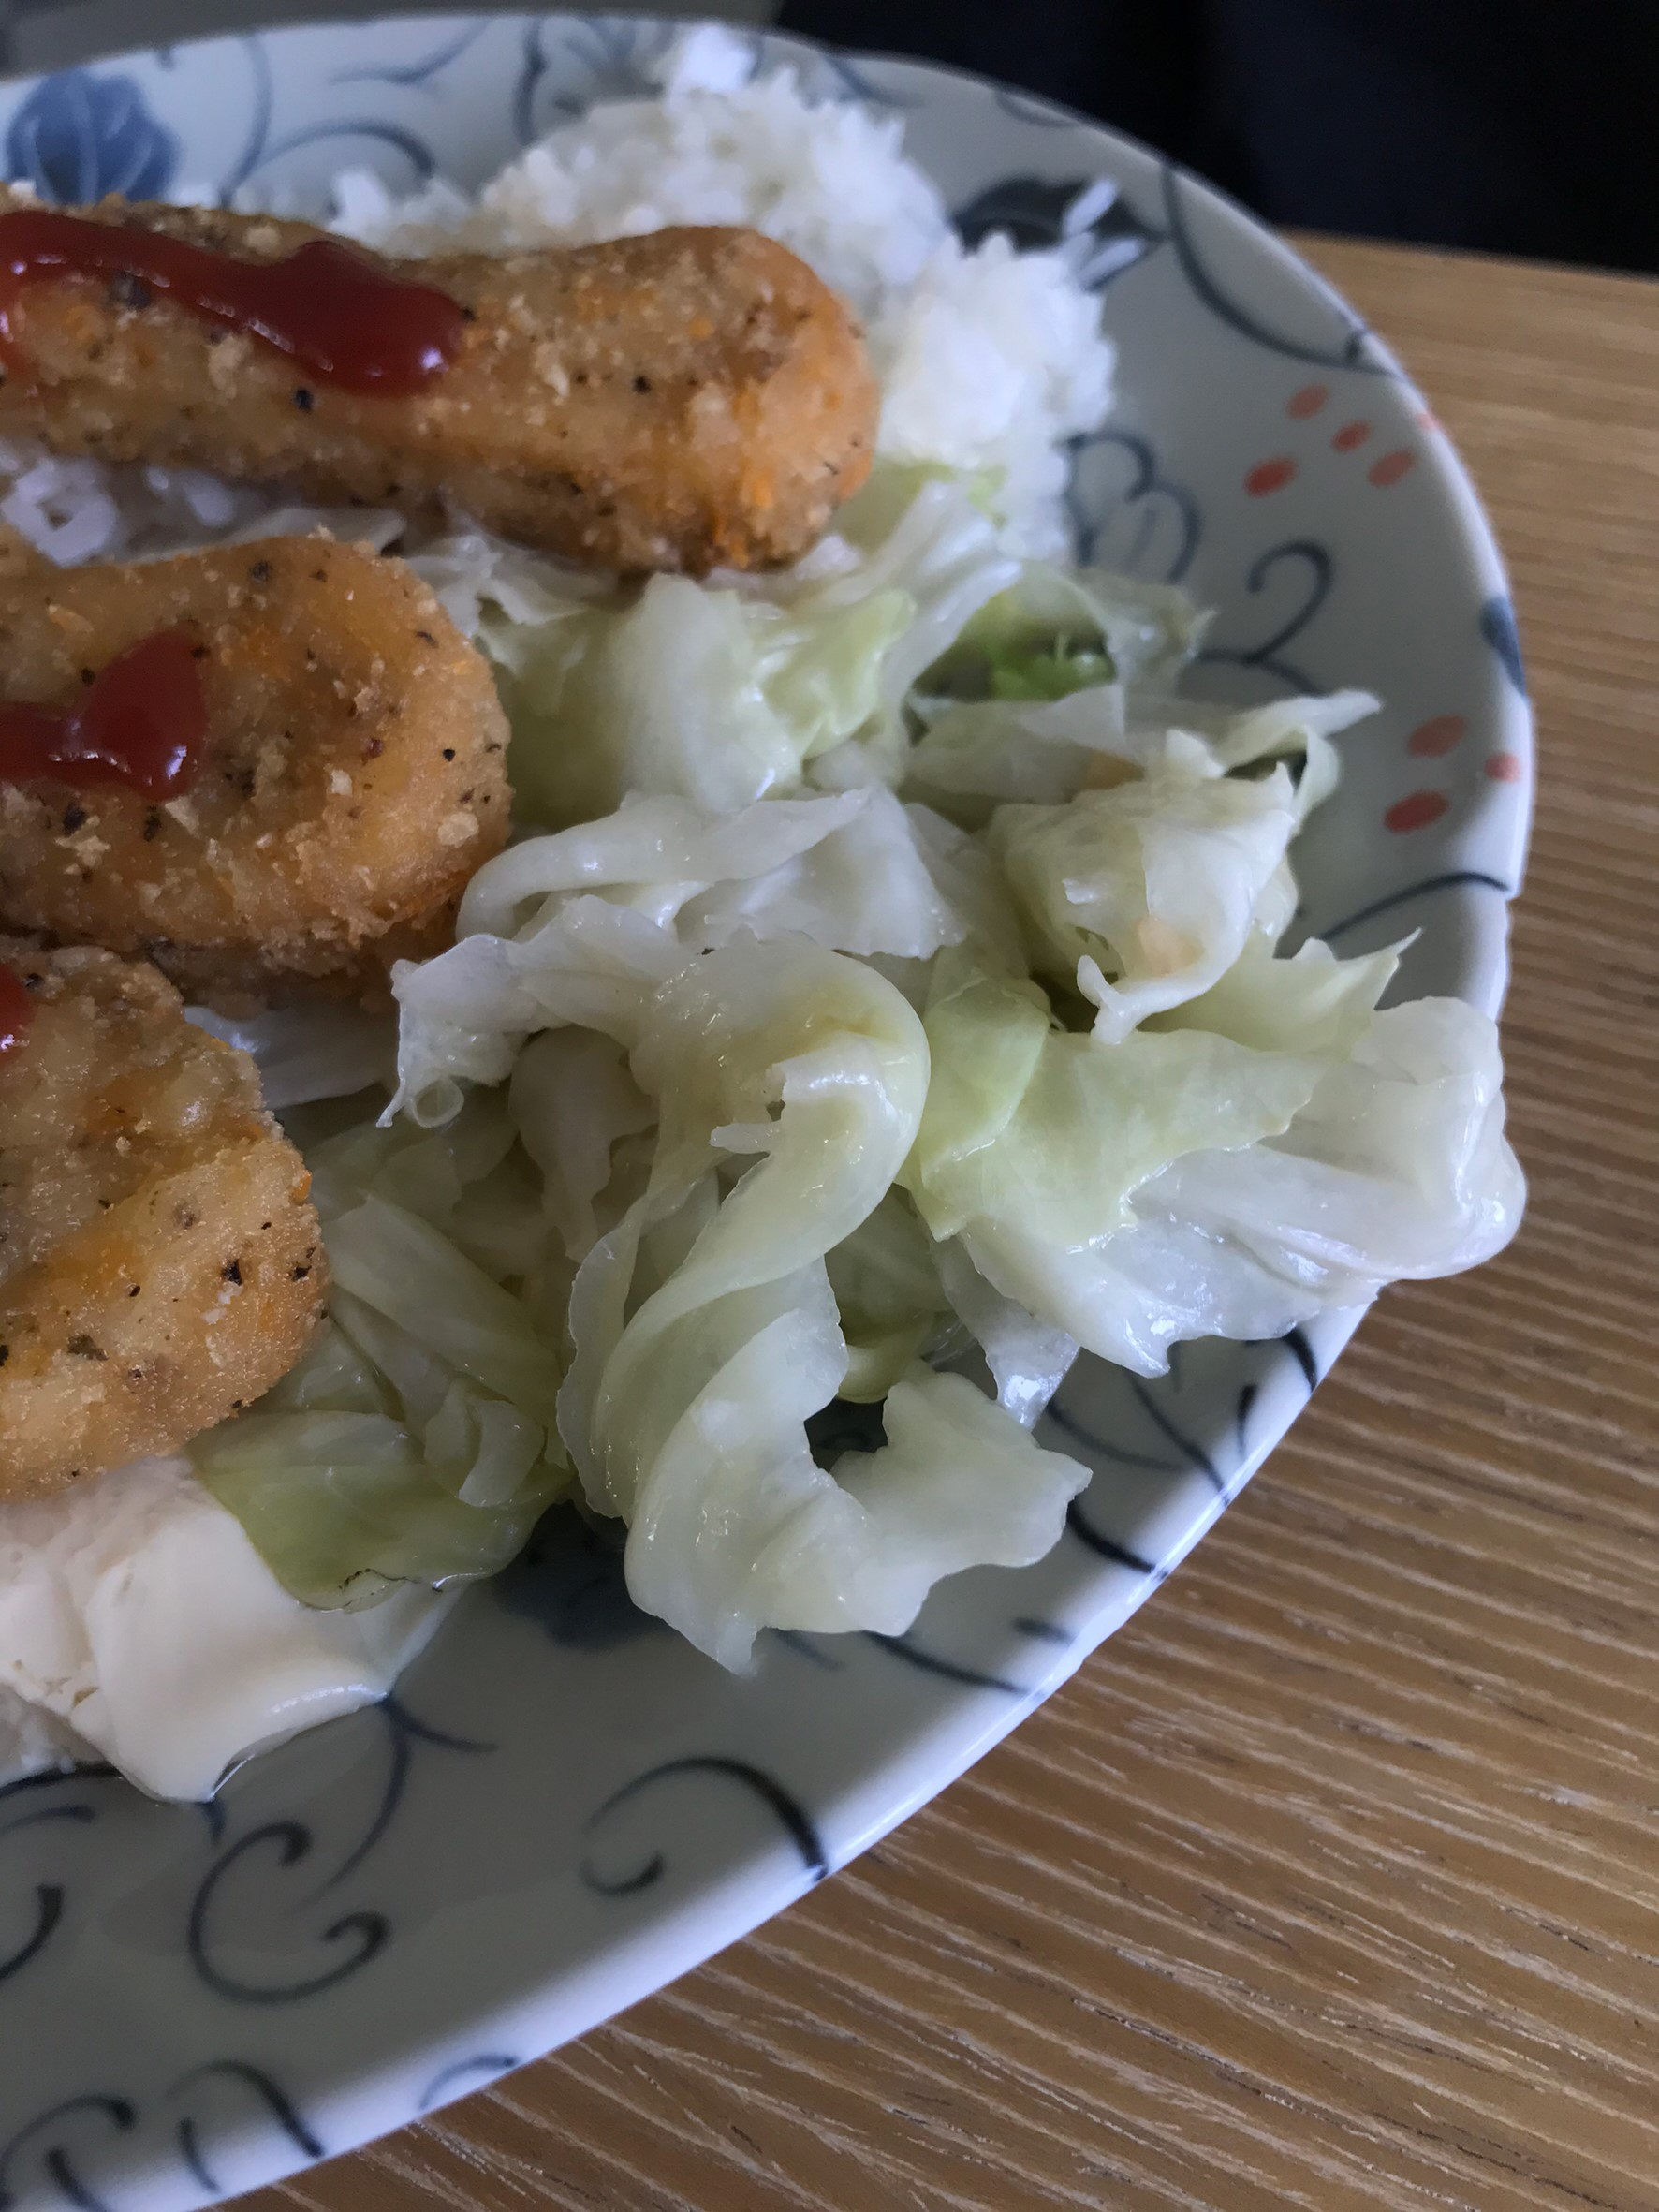chinese_cabbage: (509, 570, 1321, 1539)
